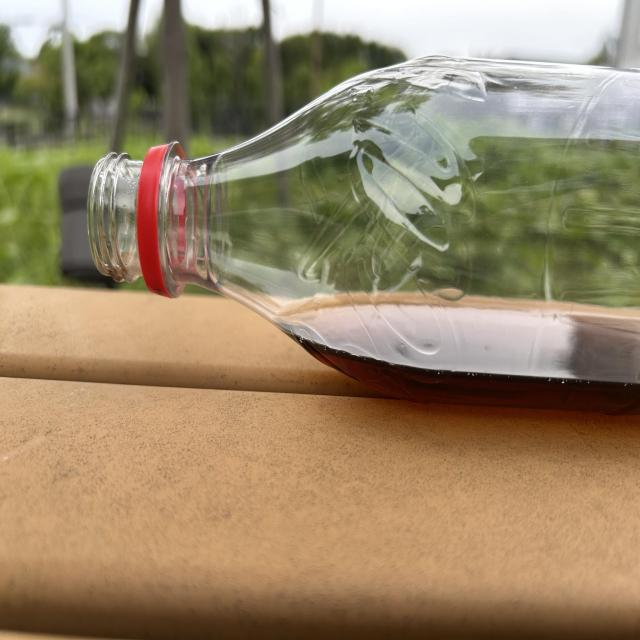low: (87, 57, 640, 412)
